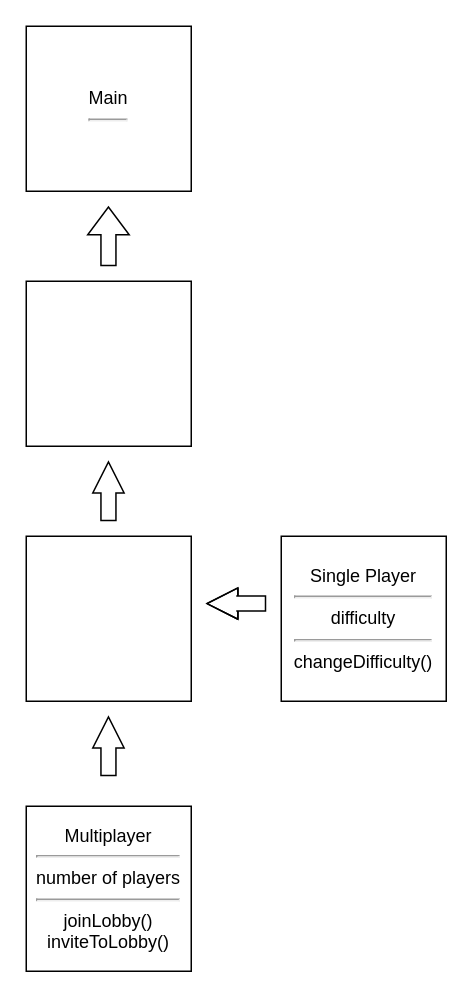
Some shapes in this 473 by 998 pixel diagram are drawn without their labels. Here are the shapes that lost their labels. From the top down, the centre of each, then its label:
At [108,363]: "Game Library addGame() sortGenre() sortPlatform() sortRating()".
At [108,618]: "Game platform rating singleplayer or multiplayer".
